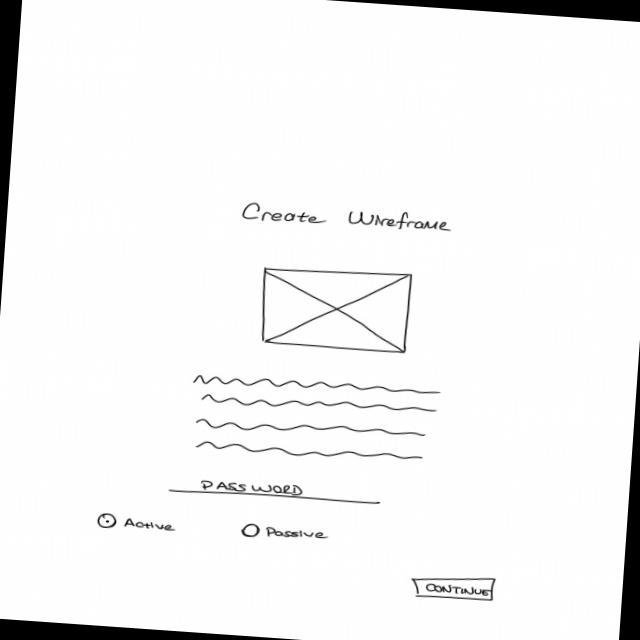button: (411, 572, 497, 605)
image: (257, 262, 417, 355)
input: (168, 475, 383, 508)
label: (240, 200, 453, 236)
radio: (240, 522, 333, 544), (96, 512, 179, 536)
textbox: (187, 372, 443, 469)
